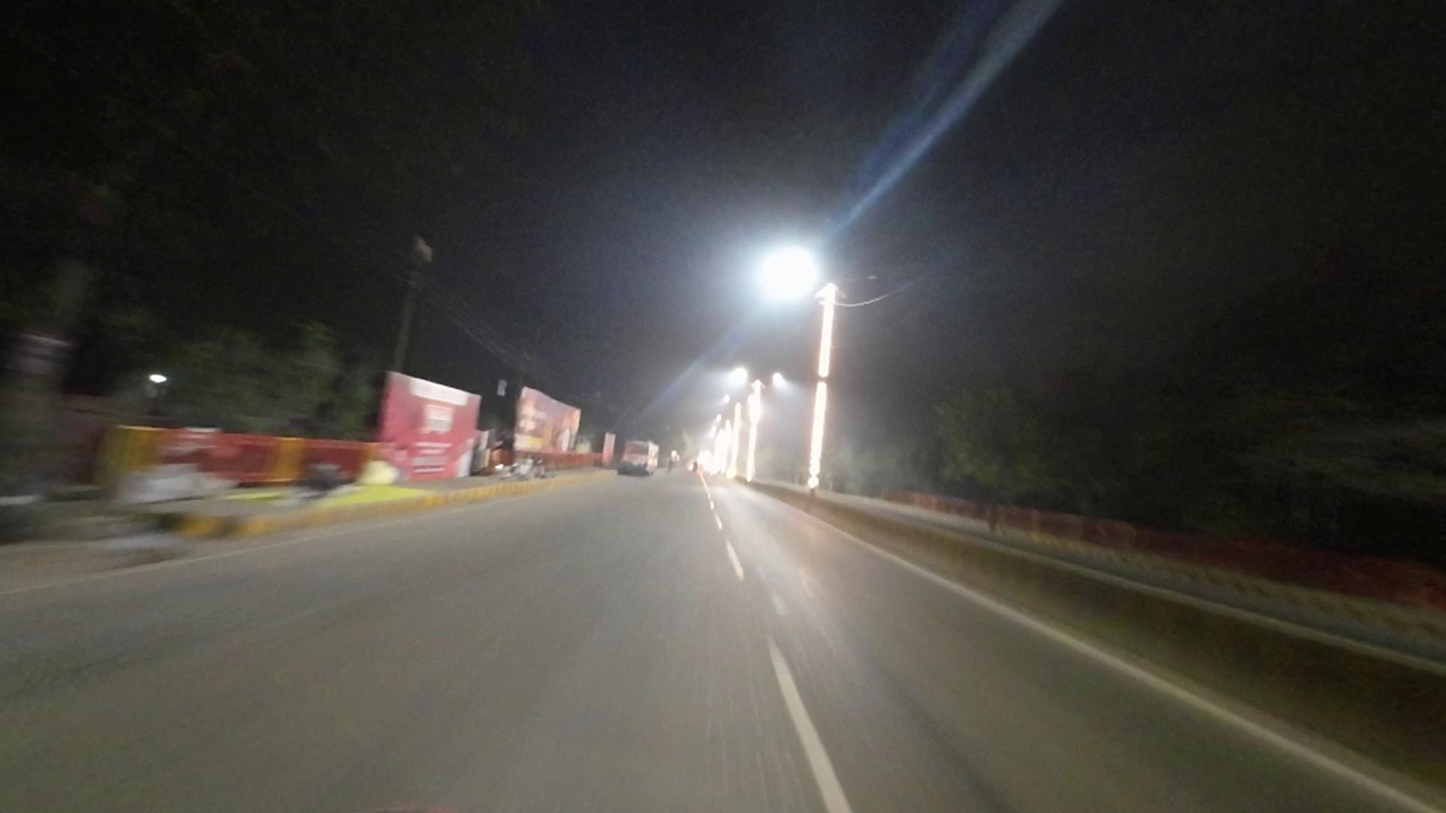streetlight: (843, 268, 881, 289)
